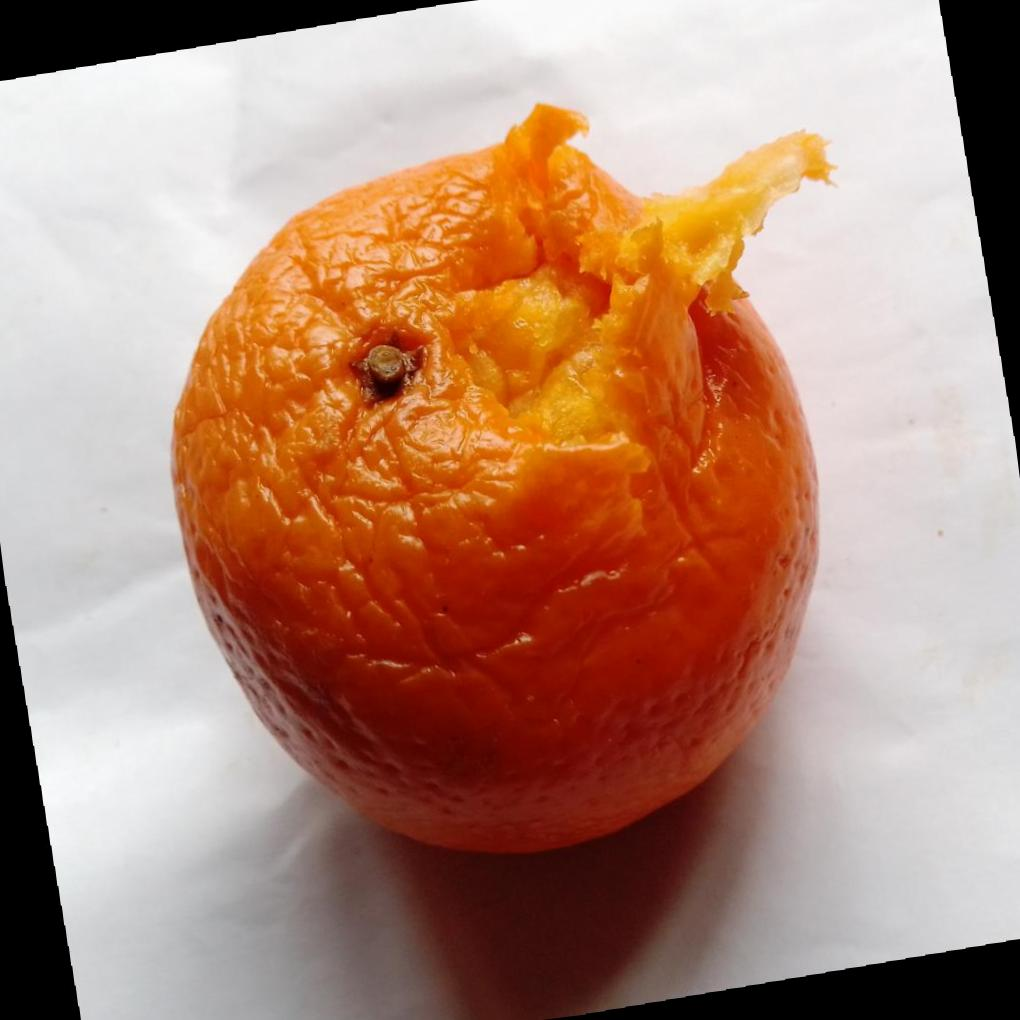FreshOrange: (170, 103, 832, 860)
